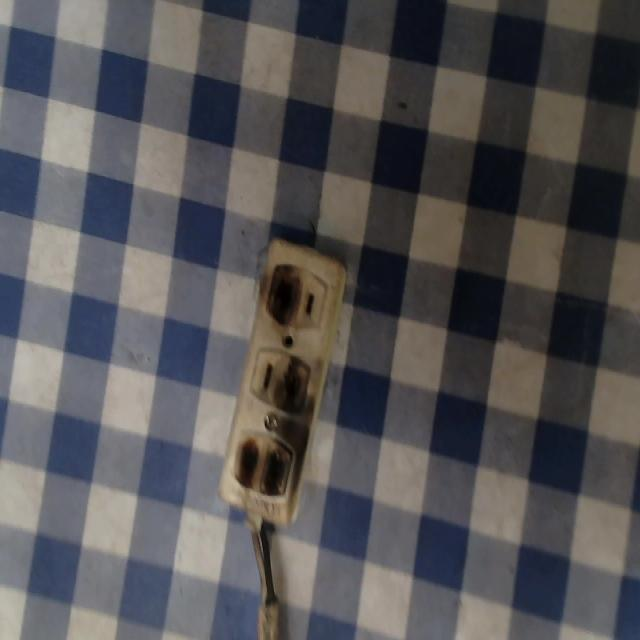-: (226, 422, 297, 502), (258, 259, 306, 336), (280, 351, 309, 412)
